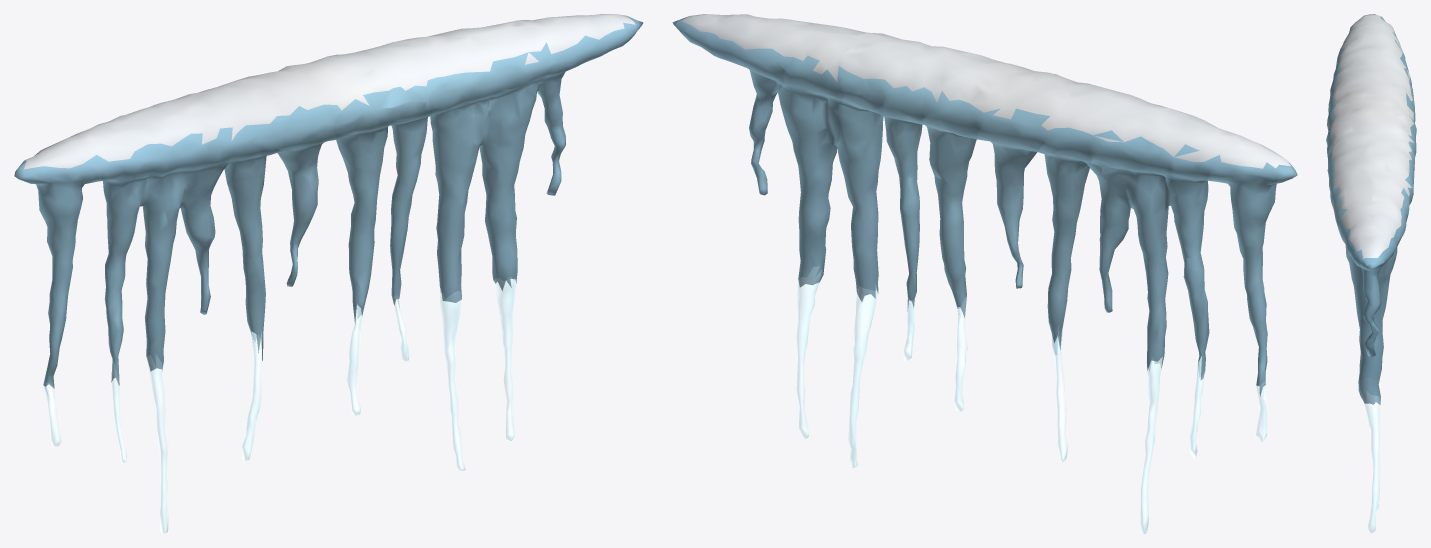
File: frost_icicle_cluster_b.glb
3 views of the same model, side by side, from view 1: azimuth 30°, elevation 25°; view 2: azimuth 150°, elevation 25°; view 3: azimuth 270°, elevation 25° (orthographic). The views are drawn at different scales.
Visible parts, largest first — view 1: frost_icicle_cluster_b; view 2: frost_icicle_cluster_b; view 3: frost_icicle_cluster_b.
Boxes of the visible parts, left/top/right/bottom form: frost_icicle_cluster_b: left=14, top=14, right=643, bottom=533; frost_icicle_cluster_b: left=672, top=14, right=1297, bottom=533; frost_icicle_cluster_b: left=1326, top=14, right=1416, bottom=533.
Bounding box in the file's own units: 18.07 × 12 × 2.74.
